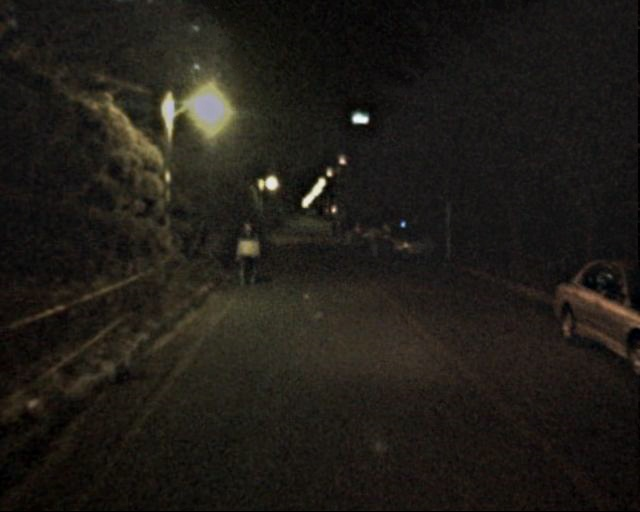person: (232, 218, 261, 288), (367, 221, 385, 265), (332, 222, 351, 248)
